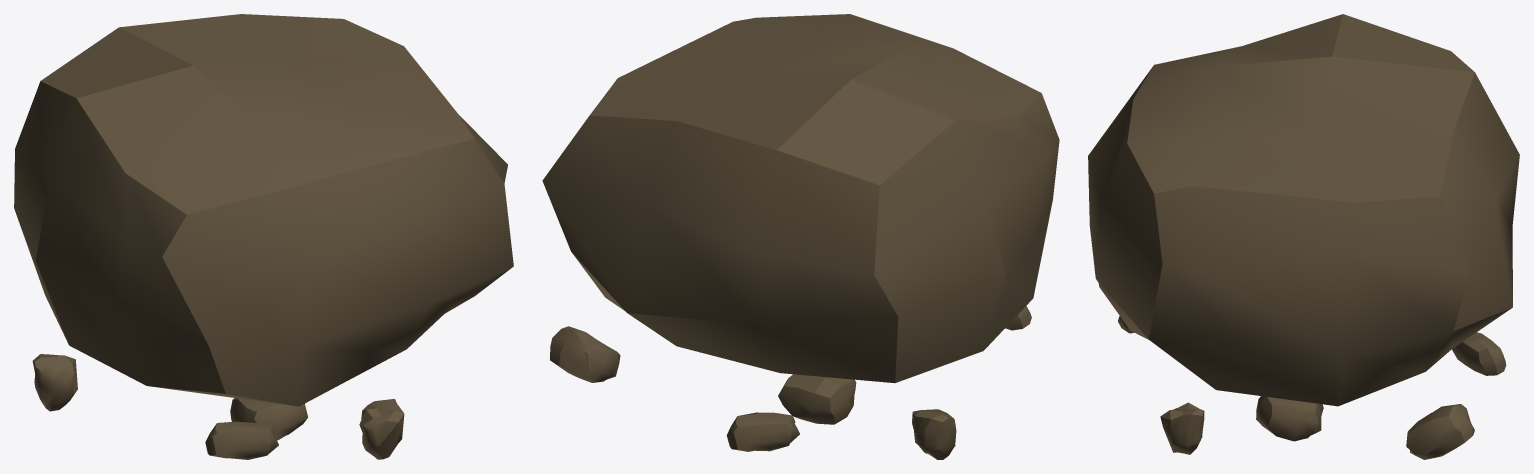
Rendered from floating_rock_big_1.fbx.
3 renders of one model, left to right at view 1: azimuth 30°, elevation 25°; view 2: azimuth 150°, elevation 25°; view 3: azimuth 270°, elevation 25°, orthographic. The views are drawn at different scales.
Parts seen in each view (by area): view 1: Cube.014; view 2: Cube.014; view 3: Cube.014.
Boxes of the visible parts, left/top/right/bottom form: Cube.014: left=14, top=14, right=513, bottom=459; Cube.014: left=542, top=14, right=1059, bottom=459; Cube.014: left=1088, top=14, right=1519, bottom=459.
Size of the model in its own units: 362 by 293 by 325.
